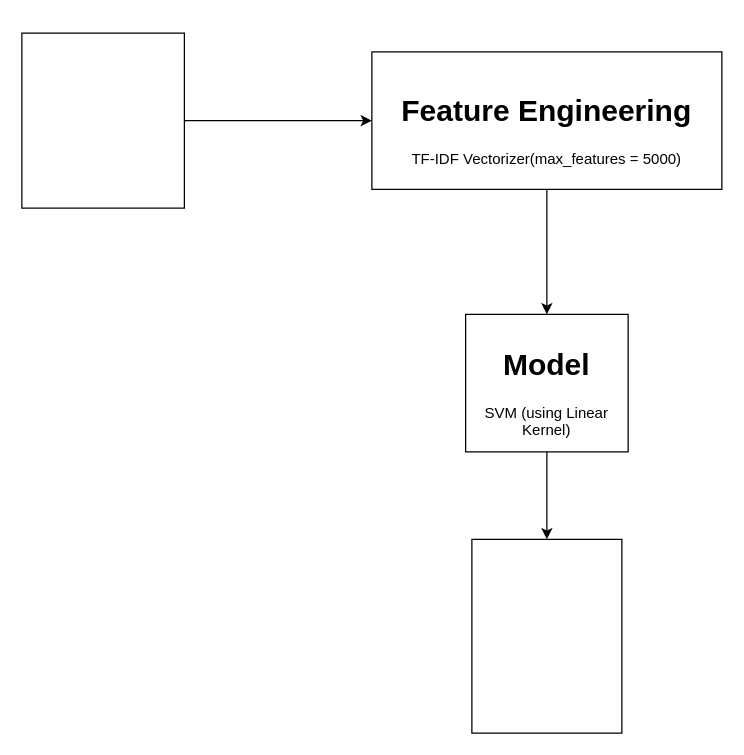
Image size: 744x755. Some labels were removed from this diagram. Here are the shapes that lost their labels. From the top down, the box of each, then its label:
(21, 32, 184, 208): PREPROCESSING Text Cleaning Lowercase Punctuation Removal StopWord Removal
(471, 538, 622, 733): Evaluation Accuracy Precision Recall F1 Score
